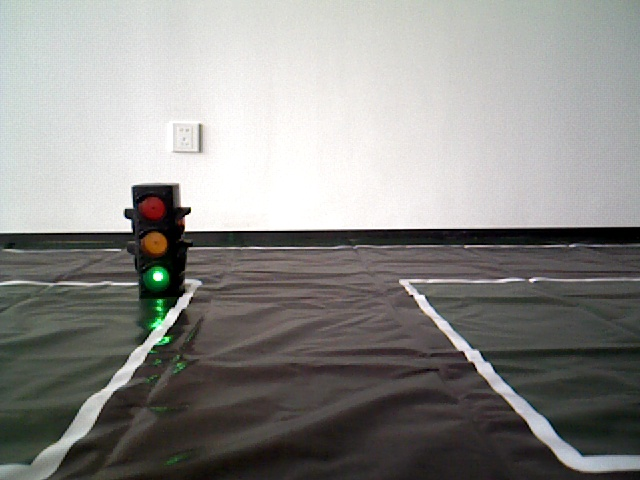green: (134, 188, 181, 286)
